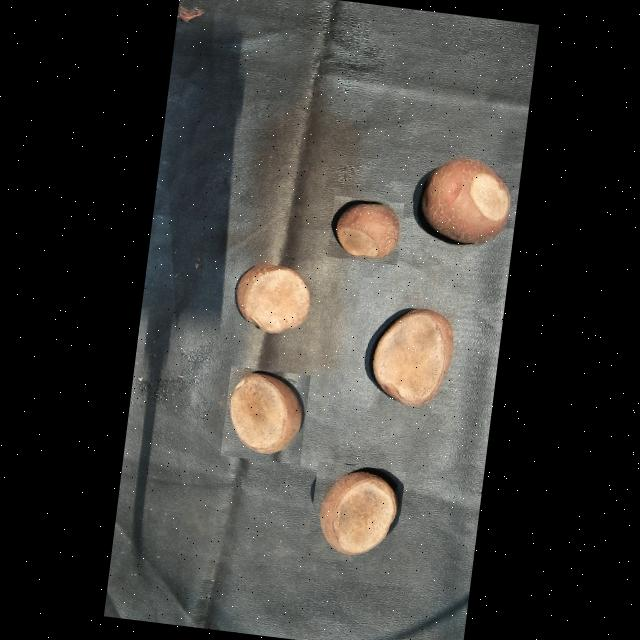Damaged potato: (362, 292, 461, 414), (410, 150, 518, 254), (305, 461, 404, 566), (219, 366, 309, 464), (224, 255, 320, 343), (326, 194, 403, 264)
